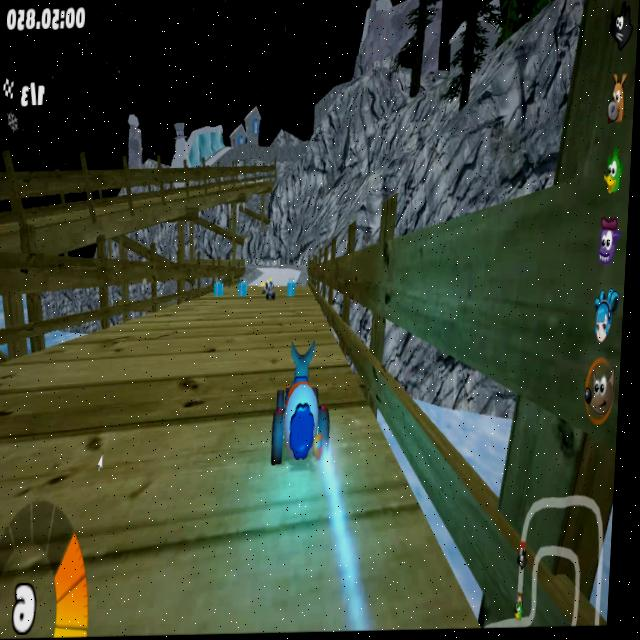bonus: (283, 277, 298, 301), (211, 278, 226, 298), (236, 276, 249, 295)
enemy_kart: (263, 278, 279, 304)
player_kart: (264, 331, 338, 497)
track: (92, 312, 272, 633), (36, 327, 103, 634), (258, 487, 404, 625), (0, 357, 48, 632), (333, 385, 361, 480), (399, 572, 453, 617), (395, 514, 423, 568), (163, 298, 244, 316), (270, 301, 317, 328), (404, 534, 437, 566), (358, 428, 377, 480), (374, 451, 390, 483), (250, 277, 264, 304), (262, 264, 297, 272), (298, 281, 309, 304)
